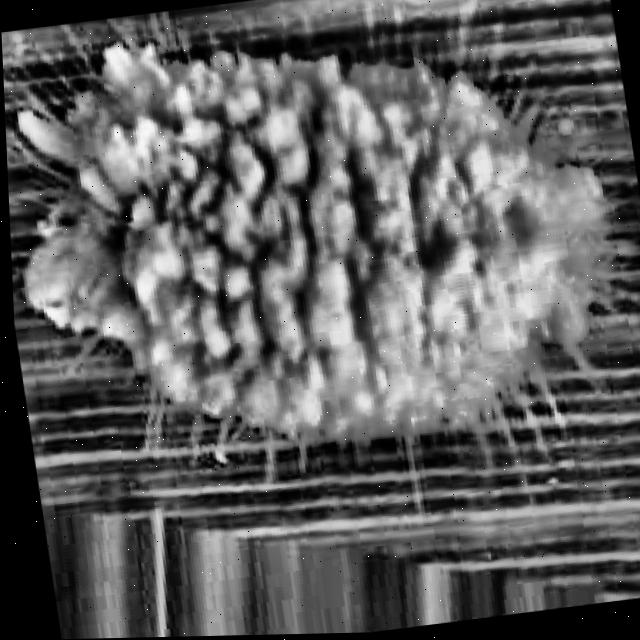Mealy-bug: (0, 0, 640, 581)
